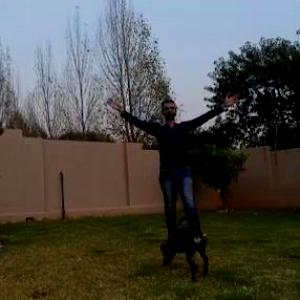takeoff: (104, 63, 254, 249)
